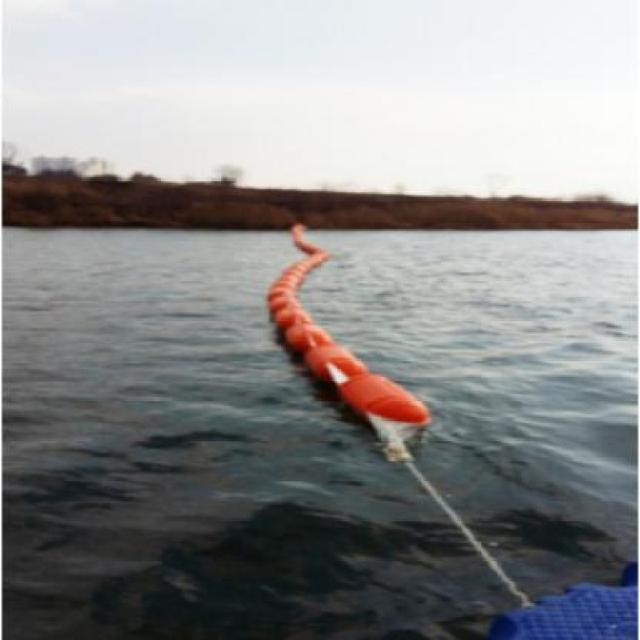a: (239, 280, 350, 385), (253, 219, 338, 275)
